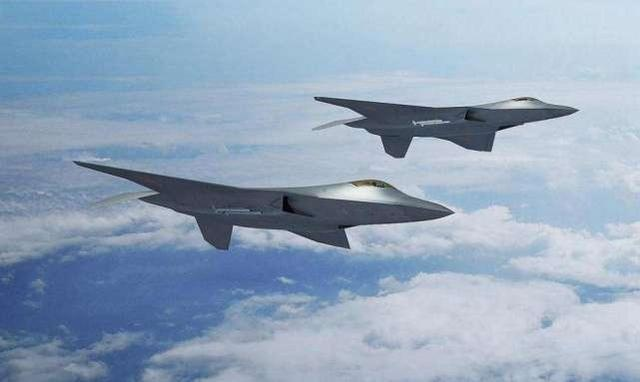airplane: (63, 154, 456, 261), (309, 89, 584, 160)
